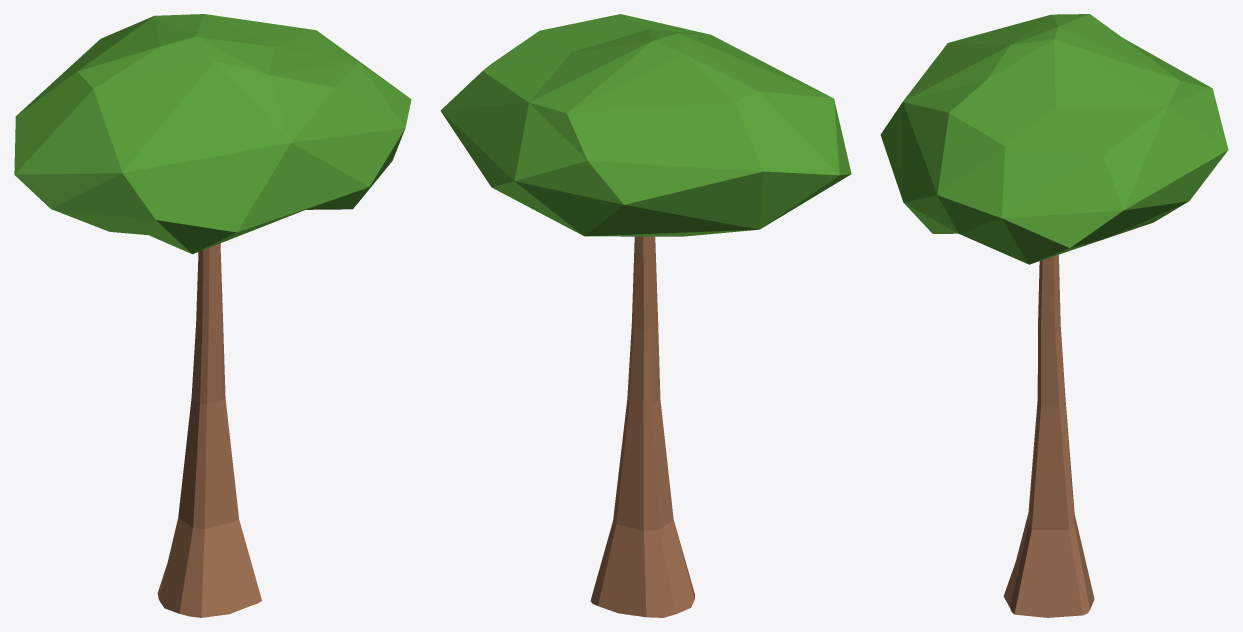
The model's file is Tree1.2.fbx.
3 views of the same model, side by side, from view 1: azimuth 30°, elevation 25°; view 2: azimuth 150°, elevation 25°; view 3: azimuth 270°, elevation 25° (orthographic).
Parts seen in each view (by area): view 1: Tree1.006; view 2: Tree1.006; view 3: Tree1.006.
Boxes of the visible parts, x1,y1,x2,y2 form: Tree1.006: [14, 14, 411, 617]; Tree1.006: [440, 14, 851, 617]; Tree1.006: [880, 14, 1228, 617].
Bounding box in the file's own units: 836 × 1176 × 670.
